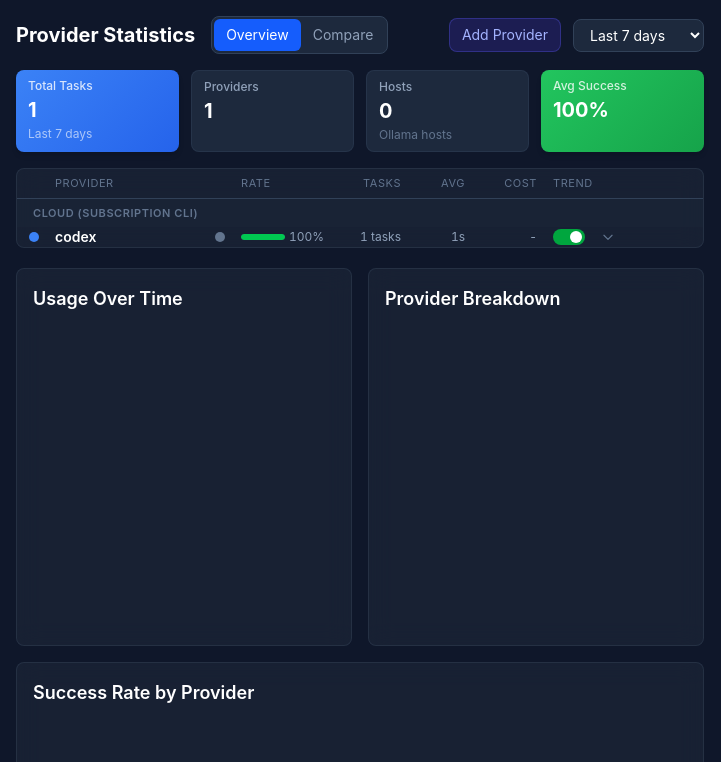
Providers › reads max_concurrent from provider.limits (v2 descriptor shape)
Click the text "codex" at {"x": 76, "y": 236}, box [55,228,96,245]
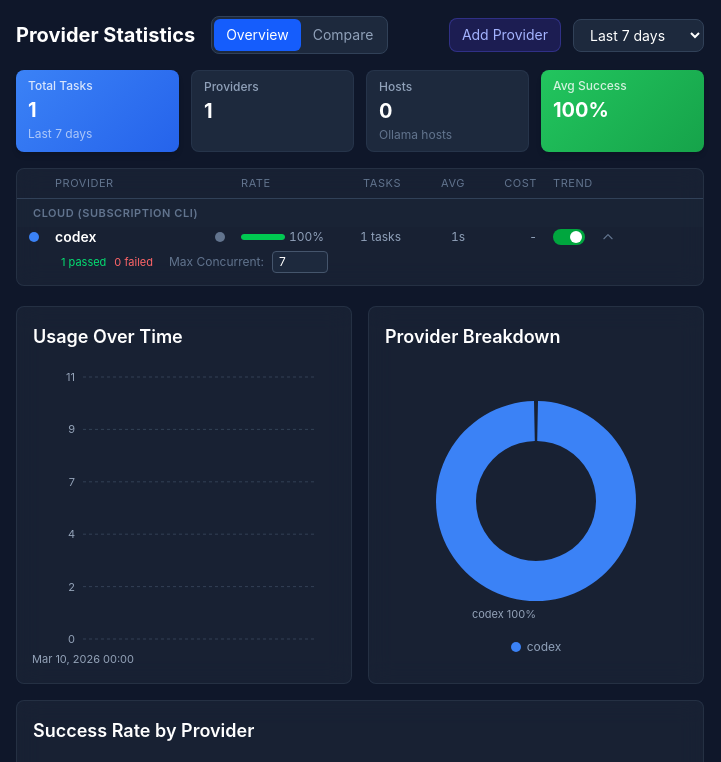
Check: the number field showing "7" is shown, box [272,251,328,273]
